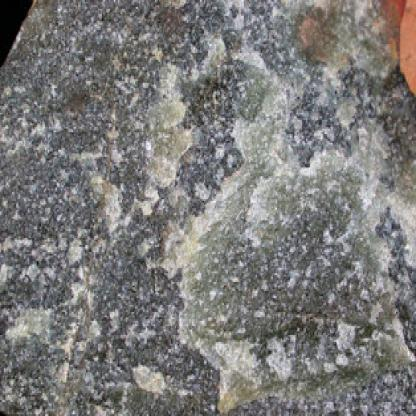Metamorphic_Quartize: (3, 7, 414, 414)
